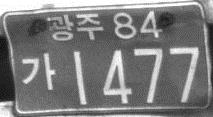1: (71, 47, 90, 108)
4: (101, 46, 131, 102), (138, 8, 163, 38)
7: (165, 46, 201, 105), (132, 46, 163, 105)
8: (111, 11, 137, 41)
가: (19, 52, 57, 92)
광주_O: (45, 11, 105, 44)
